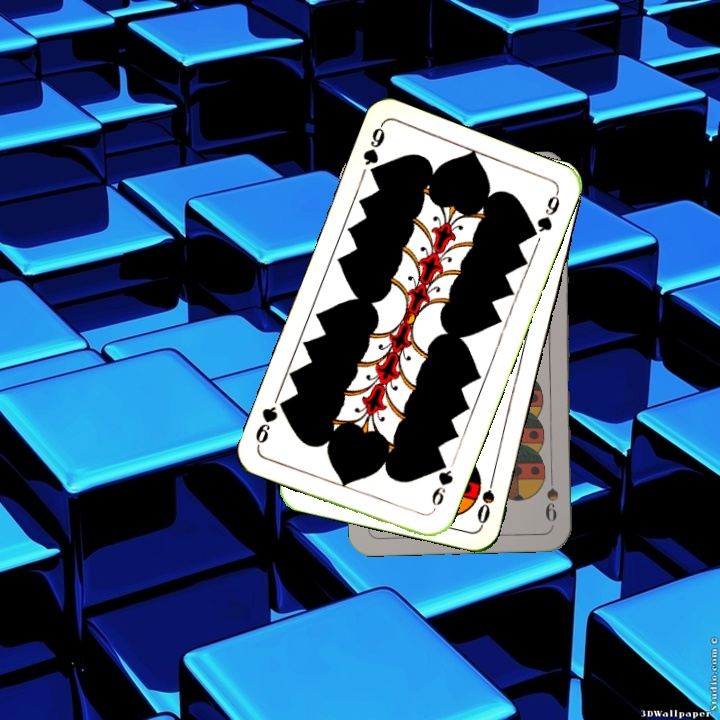G9: (358, 121, 388, 181), (427, 456, 456, 515)
S9: (541, 466, 561, 524)
SO: (473, 468, 498, 527)
